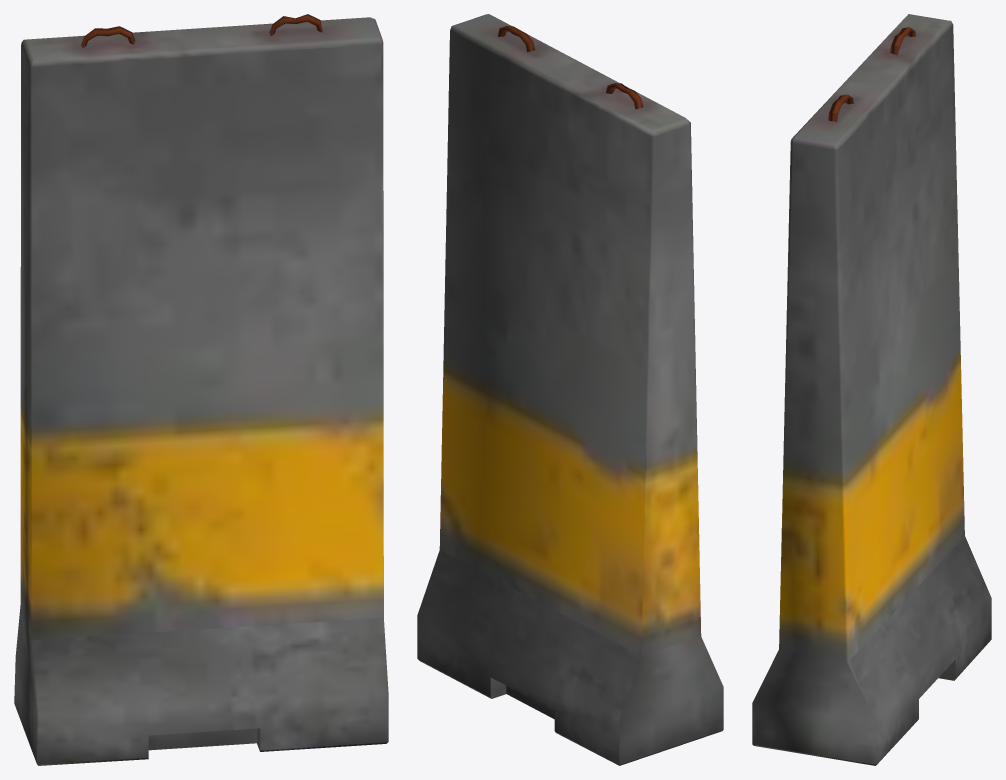
The model's file is wall-barrier.lod1.glb.
The picture shows the model from 3 angles, left to right: view 1: azimuth 30°, elevation 25°; view 2: azimuth 150°, elevation 25°; view 3: azimuth 270°, elevation 25°; orthographic projection. The views are drawn at different scales.
Parts seen in each view (by area): view 1: Object_12; view 2: Object_12; view 3: Object_12.
Part boxes in pixels (x1,y1,x2,y2): Object_12: (14,14,388,765); Object_12: (417,14,723,765); Object_12: (752,14,991,765).
Size of the model in its own units: 1.01 by 2.04 by 0.7004.
Materials: 1 (1 with a texture image).
